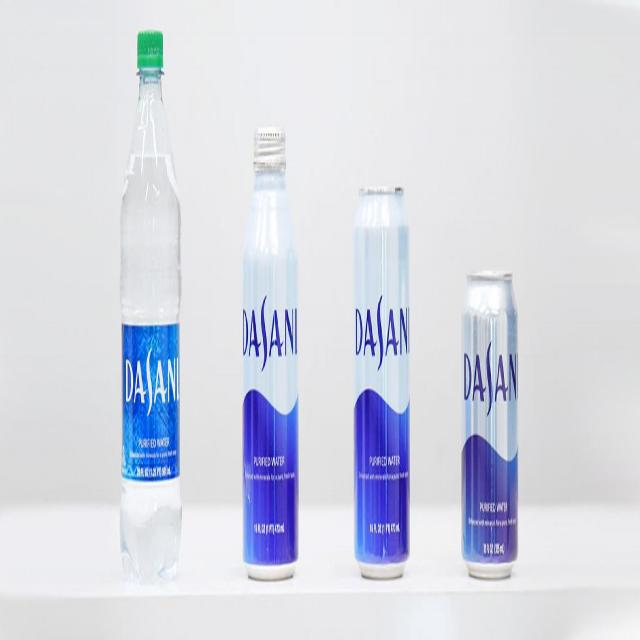metel: (346, 159, 426, 597), (455, 252, 539, 607)
plastic_bottle: (108, 7, 193, 609), (239, 105, 316, 596)
